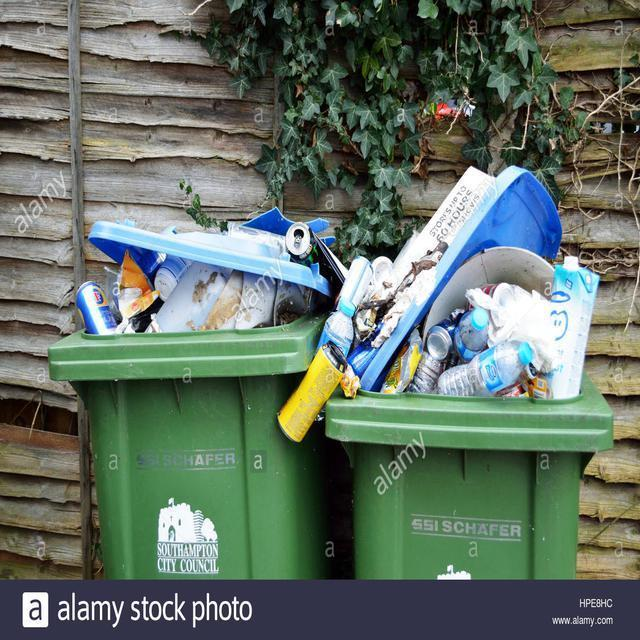garbage: (320, 163, 598, 403), (83, 246, 279, 340)
